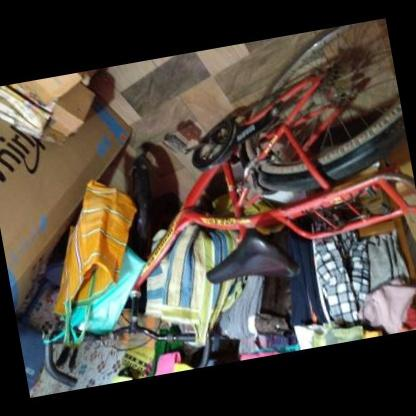Bicycle: (0, 52, 414, 318)
